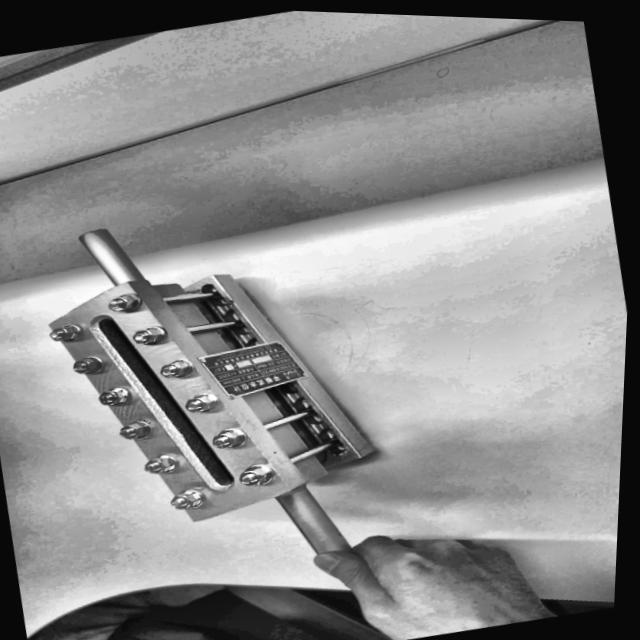ShuiWeiQi_12: (0, 175, 412, 600)
